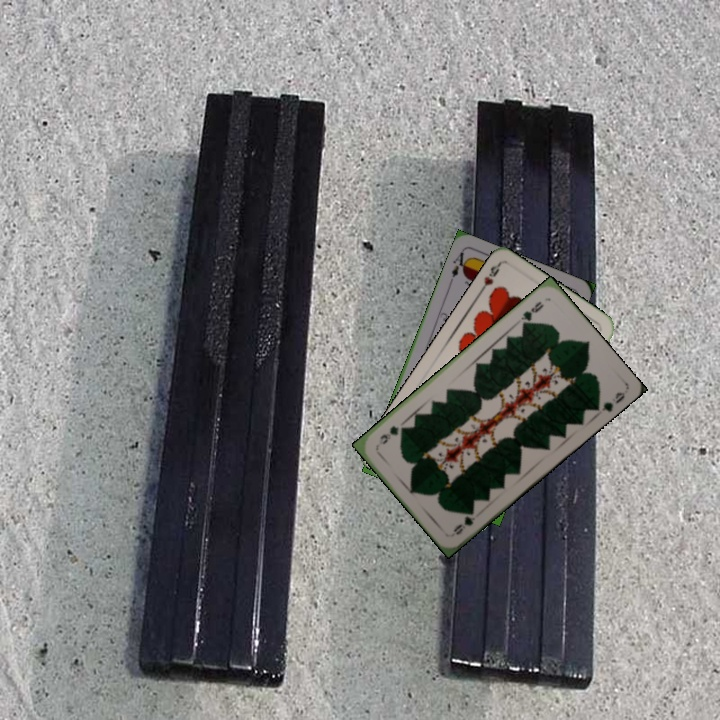EA: (445, 248, 471, 286)
G9: (517, 297, 547, 329), (449, 505, 478, 538)
H9: (475, 260, 502, 296)
